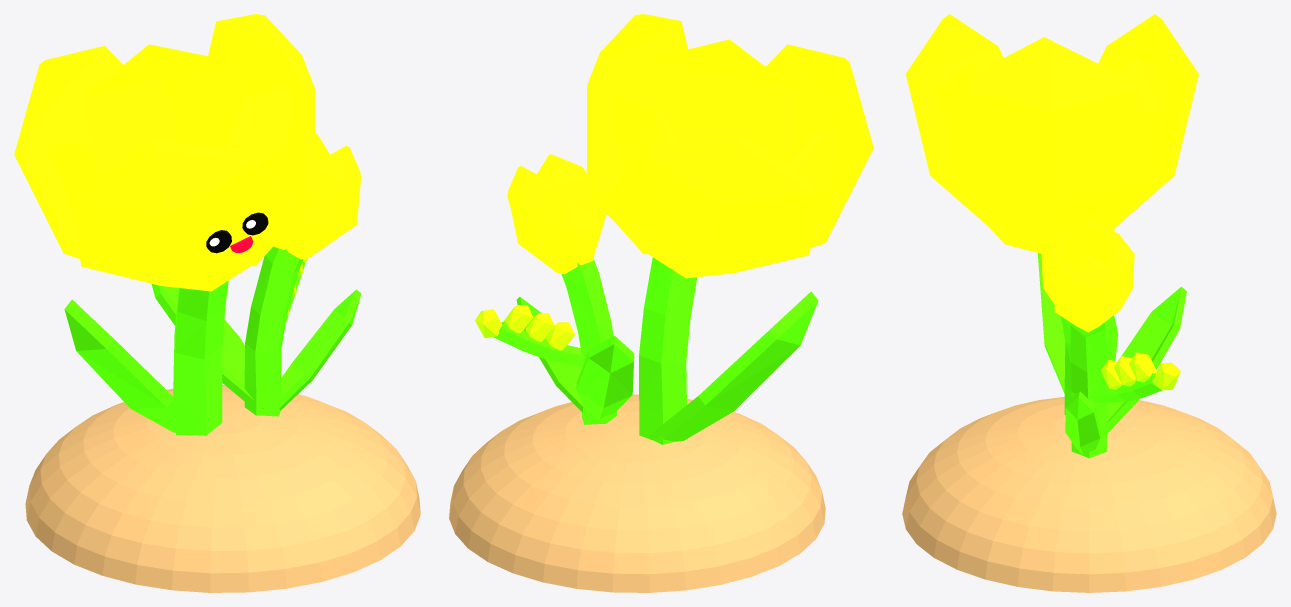
Rendered from Freesia.dae.
3 renders of one model, left to right at view 1: azimuth 30°, elevation 25°; view 2: azimuth 150°, elevation 25°; view 3: azimuth 270°, elevation 25°, orthographic. The views are drawn at different scales.
Visible parts, largest first — view 1: freesia_flower.004, Sphere, Cylinder.002, Cylinder, freesia_leaf.002, freesia_flower.006, freesia_leaf.004, freesia_leaf.003, Cylinder.001; view 2: freesia_flower.004, Sphere, freesia_flower.006, Cylinder.002, freesia_leaf.002, freesia_leaf.003, Cylinder, Cylinder.003, freesia_leaf.004, freesia_nf.002, freesia_nf.004, freesia_nf.001 (+1 smaller); view 3: Sphere, freesia_flower.004, freesia_flower.006, freesia_leaf.003, Cylinder, freesia_leaf.002, freesia_leaf.004, Cylinder.003, Cylinder.002, freesia_nf.004, freesia_nf.003.
Part boxes in pixels (<box>): freesia_flower.004: <box>14,14,315,291</box>; Sphere: <box>25,385,420,592</box>; Cylinder.002: <box>173,280,228,435</box>; Cylinder: <box>244,246,303,416</box>; freesia_leaf.002: <box>64,299,200,432</box>; freesia_flower.006: <box>273,133,360,259</box>; freesia_leaf.004: <box>279,289,361,410</box>; freesia_leaf.003: <box>151,284,263,408</box>; Cylinder.001: <box>206,212,268,253</box>; freesia_flower.004: <box>586,14,873,278</box>; Sphere: <box>449,394,825,592</box>; freesia_flower.006: <box>507,154,606,274</box>; Cylinder.002: <box>639,257,697,444</box>; freesia_leaf.002: <box>648,291,818,441</box>; freesia_leaf.003: <box>576,336,634,418</box>; Cylinder: <box>561,259,616,424</box>; Cylinder.003: <box>493,321,583,367</box>; freesia_leaf.004: <box>516,297,582,412</box>; freesia_nf.002: <box>525,313,554,341</box>; freesia_nf.004: <box>475,309,502,337</box>; freesia_nf.001: <box>546,322,574,350</box>; Sphere: <box>902,397,1276,592</box>; freesia_flower.004: <box>905,14,1198,253</box>; freesia_flower.006: <box>1041,219,1134,332</box>; freesia_leaf.003: <box>1104,286,1186,434</box>; Cylinder: <box>1070,322,1107,458</box>; freesia_leaf.002: <box>1037,253,1117,393</box>; freesia_leaf.004: <box>1065,391,1101,455</box>; Cylinder.003: <box>1091,373,1161,403</box>; Cylinder.002: <box>1061,316,1111,414</box>; freesia_nf.004: <box>1153,362,1180,390</box>; freesia_nf.003: <box>1129,352,1156,382</box>.
Size of the model in its own units: 2.14 by 2 by 2.82.
